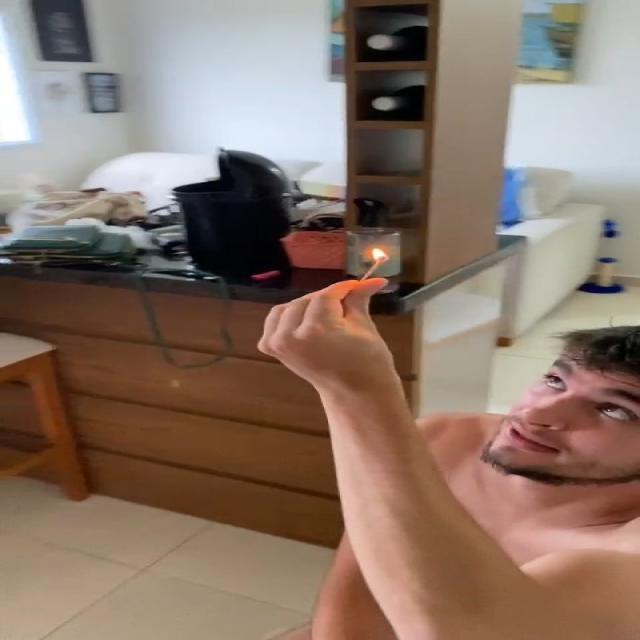fogo-ypXI: (370, 247, 390, 263)
